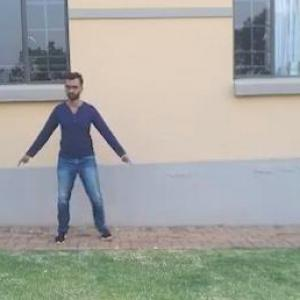land: (22, 71, 148, 260)
